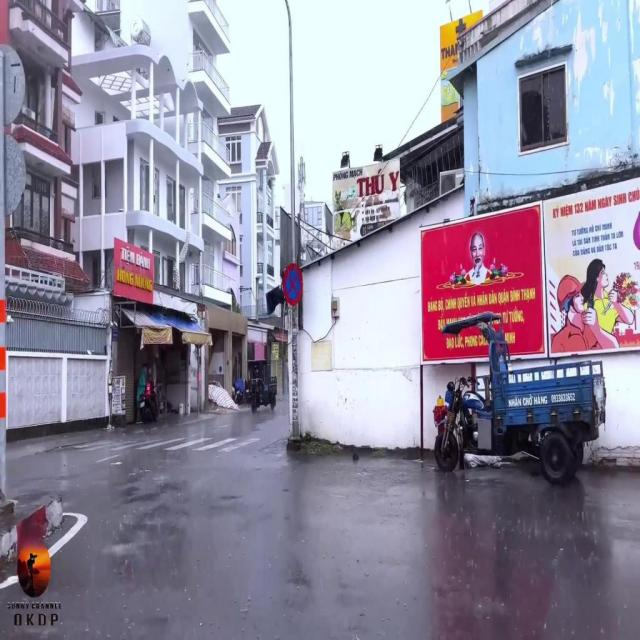cam_dung_xe_va_do_xe: (282, 260, 304, 307)
